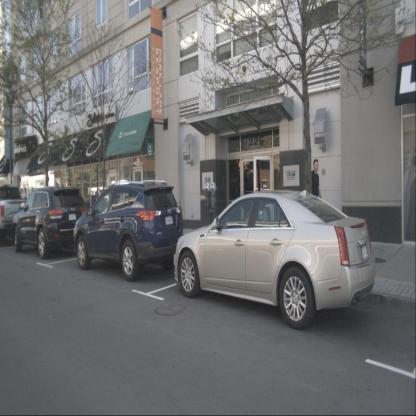human-pedestrian-adult: (305, 159, 324, 247)
vehicle-car: (173, 190, 376, 329), (74, 180, 184, 282), (13, 186, 87, 259)
vehicle-truck: (0, 184, 32, 245)
